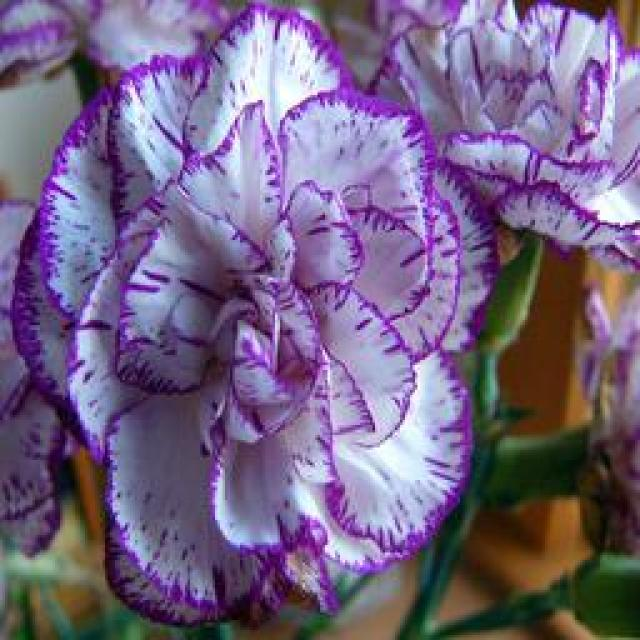carnation: (25, 0, 503, 640)
